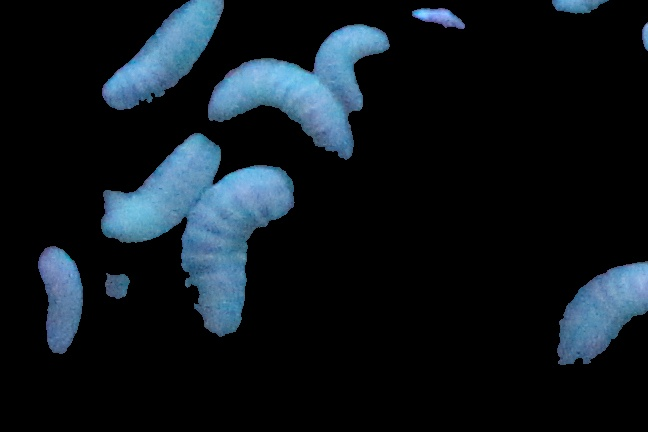larvae: (183, 168, 292, 342), (209, 61, 349, 155), (106, 1, 232, 105), (100, 134, 221, 239), (556, 243, 648, 369), (318, 26, 388, 110), (41, 253, 81, 359)
